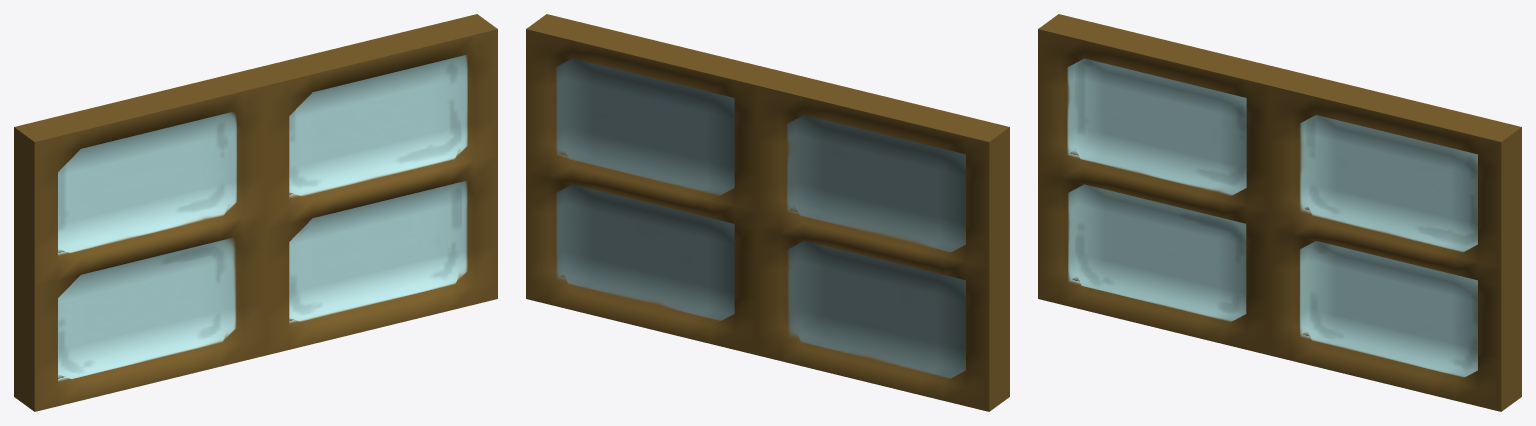
File: window.fbx
3 views of the same model, side by side, from view 1: azimuth 30°, elevation 25°; view 2: azimuth 150°, elevation 25°; view 3: azimuth 330°, elevation 25° (orthographic).
Visible parts, largest first — view 1: pCube1; view 2: pCube1; view 3: pCube1.
Part boxes in pixels (left/top/right/bottom): pCube1: left=14, top=14, right=497, bottom=411; pCube1: left=526, top=14, right=1009, bottom=411; pCube1: left=1038, top=14, right=1521, bottom=411.
Size of the model in its own units: 11.9 by 6.63 by 0.92.
Materials: 1 (1 with a texture image).
